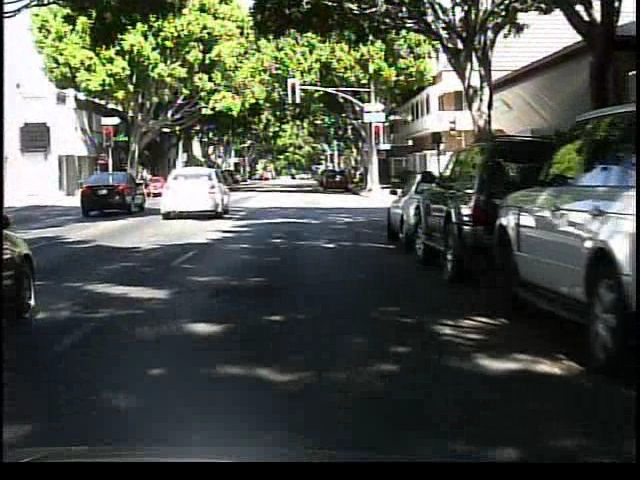person: (137, 162, 158, 196)
